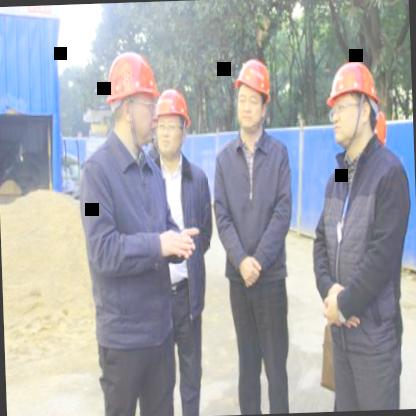helmet: (106, 48, 164, 152), (325, 53, 382, 149), (228, 55, 277, 137), (150, 81, 192, 158)
